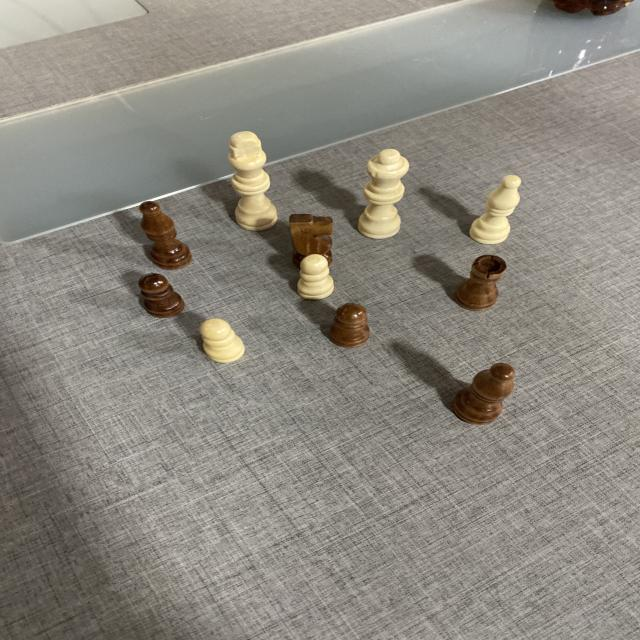Black-Bishop: (451, 362, 519, 423), (138, 202, 190, 268)
Black-Knight: (292, 212, 338, 264)
Black-Pawn: (139, 273, 187, 319), (328, 304, 369, 348)
Black-Rook: (459, 254, 507, 309)
White-Bishop: (470, 174, 523, 244)
White-King: (232, 130, 275, 230)
White-Pawn: (202, 318, 244, 361), (299, 253, 332, 302)
White-Queen: (357, 148, 411, 240)
